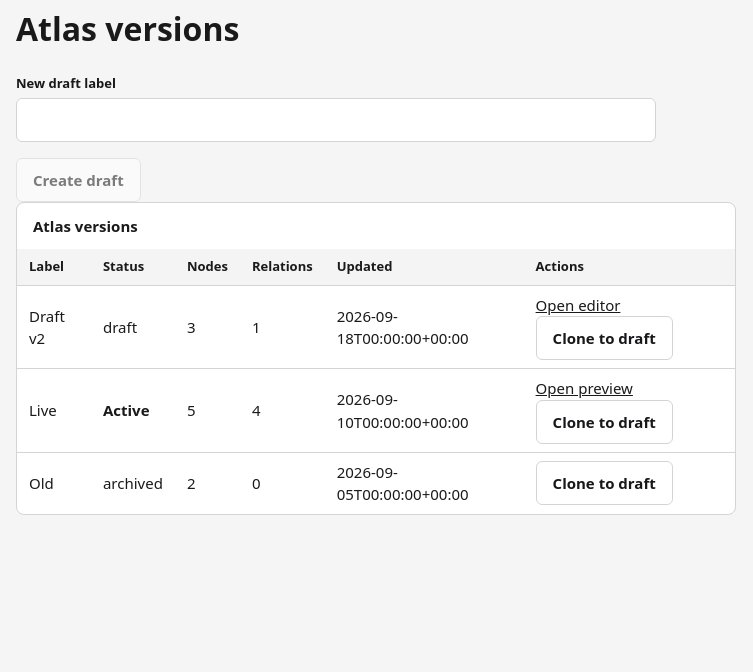
Test case: AtlasVersionsPage (Plan B Task 10) › surfaces the backend message when clone finds the source gone
Check: the text "Live" is shown, box [17,369,91,452]
What coordinates should you click on to do the following:
click the button "Clone to draft" below "Open preview"
I would click on:
 (604, 422)
Its box is [536,400,673,444].
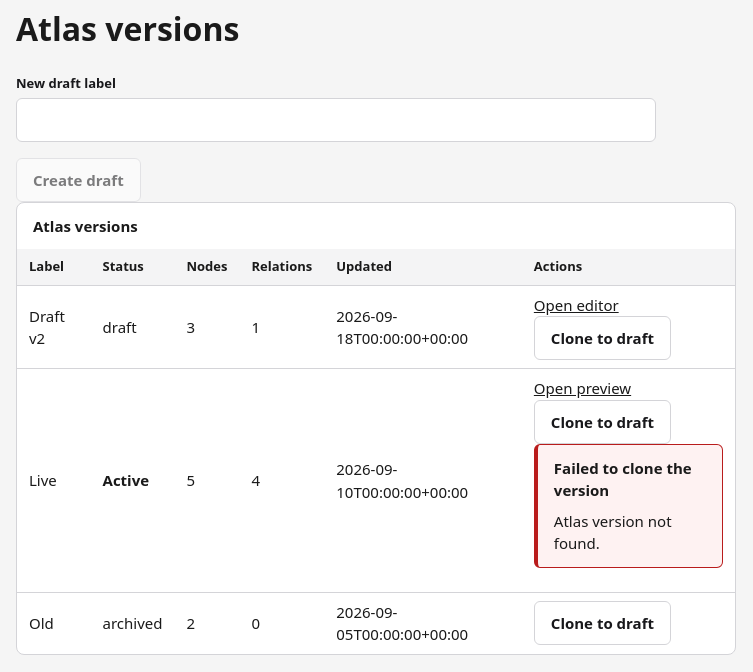
Check: the text "Atlas version not found." is shown, box [554,511,672,553]
